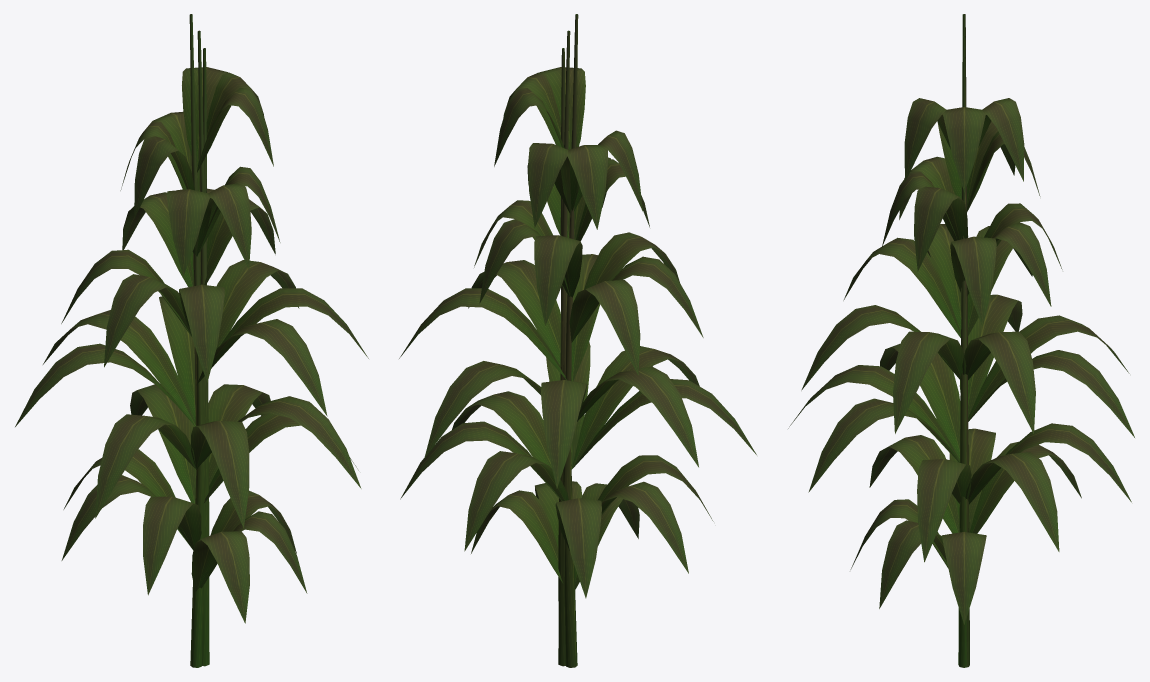
Rendered from vt1-roadside-corn-r1.glb.
The picture shows the model from 3 angles, left to right: view 1: azimuth 30°, elevation 25°; view 2: azimuth 150°, elevation 25°; view 3: azimuth 270°, elevation 25°; orthographic projection.
Parts seen in each view (by area): view 1: vt1_roadside_corn_0, vt1_roadside_corn_2, vt1_roadside_corn_1; view 2: vt1_roadside_corn_0, vt1_roadside_corn_2, vt1_roadside_corn_1; view 3: vt1_roadside_corn_0, vt1_roadside_corn_1, vt1_roadside_corn_2.
Part boxes in pixels (x1,y1,x2,y2): vt1_roadside_corn_0: (15,48,361,667); vt1_roadside_corn_2: (61,14,358,665); vt1_roadside_corn_1: (43,30,368,666); vt1_roadside_corn_0: (399,48,713,667); vt1_roadside_corn_2: (424,14,756,665); vt1_roadside_corn_1: (400,30,703,666); vt1_roadside_corn_0: (808,57,1131,654); vt1_roadside_corn_1: (788,36,1129,642); vt1_roadside_corn_2: (801,14,1134,667).
Size of the model in its own units: 1.6 by 3.32 by 1.63.
Materials: 1 (1 with a texture image).
